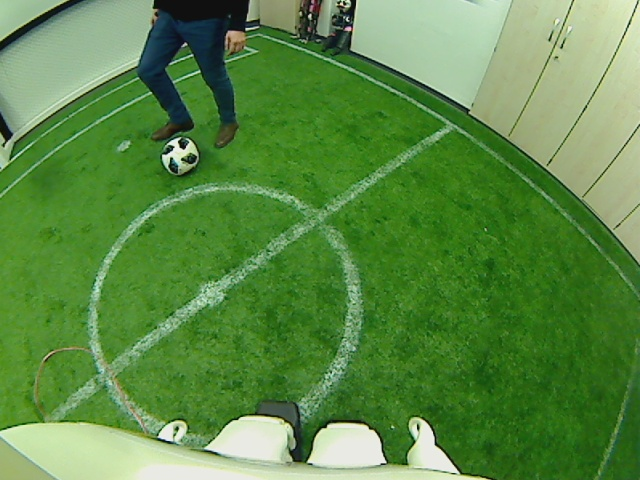ball: (160, 133, 200, 175)
